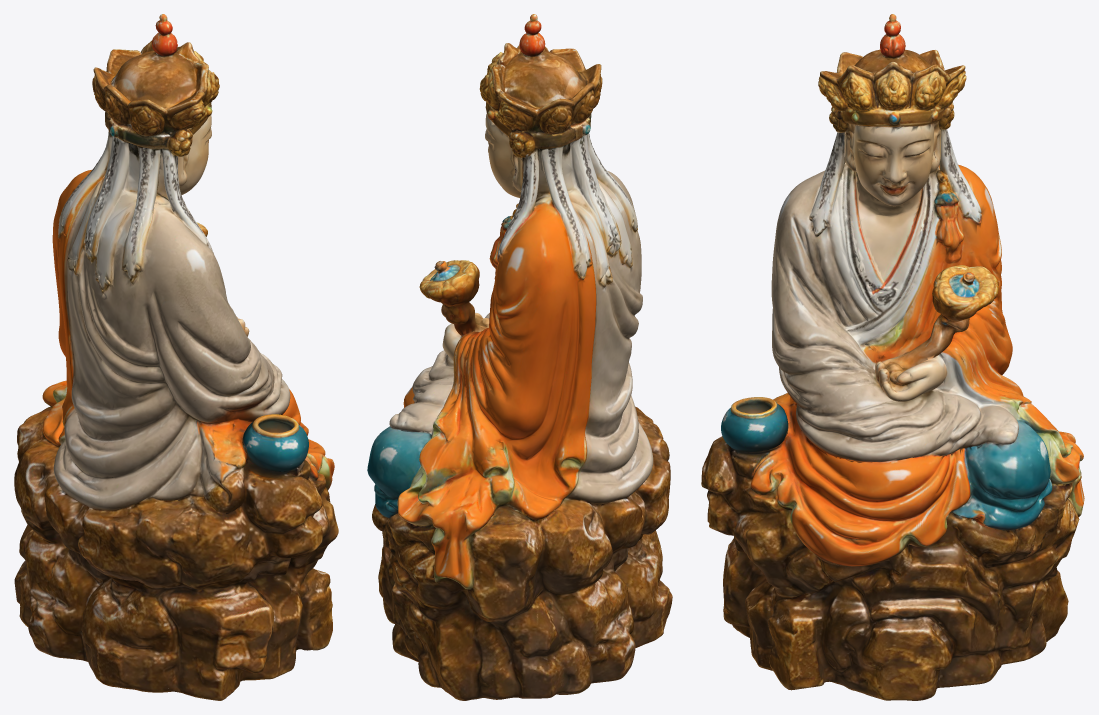
File: speechless-buddha-web-desktop.glb
3 views of the same model, side by side, from view 1: azimuth 30°, elevation 25°; view 2: azimuth 150°, elevation 25°; view 3: azimuth 270°, elevation 25° (orthographic).
Visible parts, largest first — view 1: tripo_node_fe233c2f-3267-4b3a-8270-e711cd19128f; view 2: tripo_node_fe233c2f-3267-4b3a-8270-e711cd19128f; view 3: tripo_node_fe233c2f-3267-4b3a-8270-e711cd19128f.
Part boxes in pixels (x1,y1,x2,y2): tripo_node_fe233c2f-3267-4b3a-8270-e711cd19128f: (14,14,338,700); tripo_node_fe233c2f-3267-4b3a-8270-e711cd19128f: (367,14,672,700); tripo_node_fe233c2f-3267-4b3a-8270-e711cd19128f: (701,14,1084,700).
Bounding box in the file's own units: 0.4173 × 0.9792 × 0.5447.
Materials: 1 (1 with a texture image).
